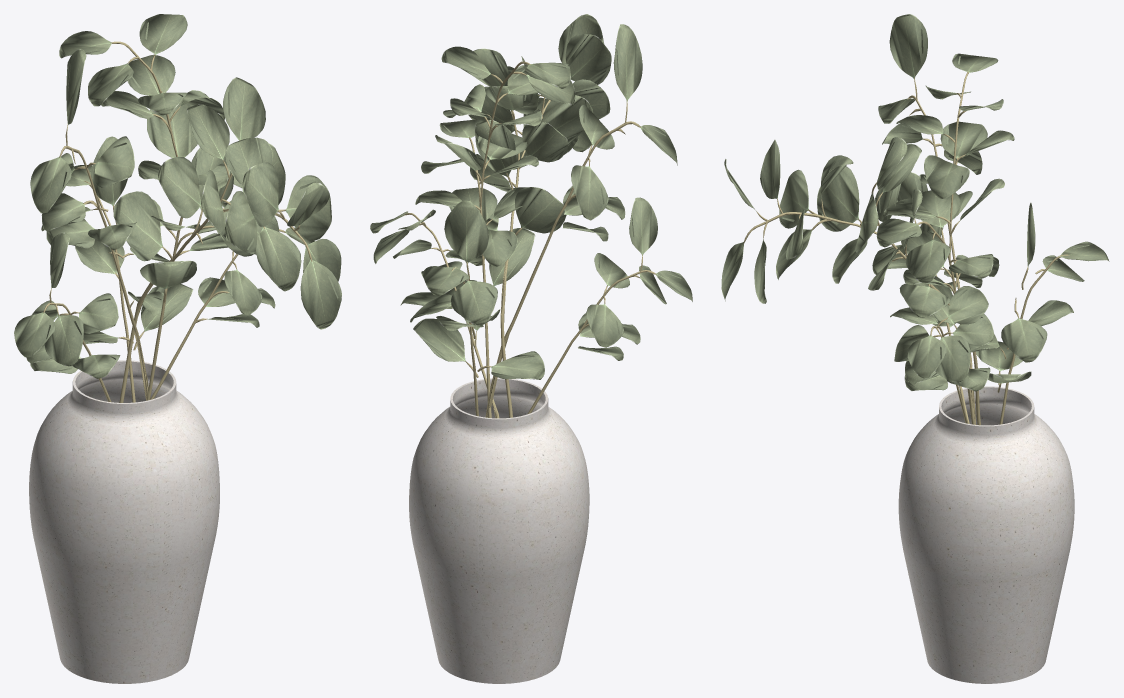
The model's file is decor_vase_stems.glb.
3 renders of one model, left to right at view 1: azimuth 30°, elevation 25°; view 2: azimuth 150°, elevation 25°; view 3: azimuth 270°, elevation 25°, orthographic. The views are drawn at different scales.
Parts seen in each view (by area): view 1: Geom3D (×3), Geom3D_Object294__30___30___50_; view 2: Geom3D (×3), Geom3D_Object294__30___30___50_; view 3: Geom3D (×3), Geom3D_Object294__30___30___50_.
Boxes of the visible parts, box(x1,y1,x2,y2) form: Geom3D (×3): box(14, 14, 341, 683); Geom3D_Object294__30___30___50_: box(43, 41, 312, 402); Geom3D (×3): box(370, 14, 692, 683); Geom3D_Object294__30___30___50_: box(403, 61, 656, 418); Geom3D (×3): box(721, 14, 1109, 683); Geom3D_Object294__30___30___50_: box(743, 71, 1069, 425).
Bounding box in the file's own units: 0.4531 × 0.8915 × 0.517.
Materials: 3 (2 with a texture image).
